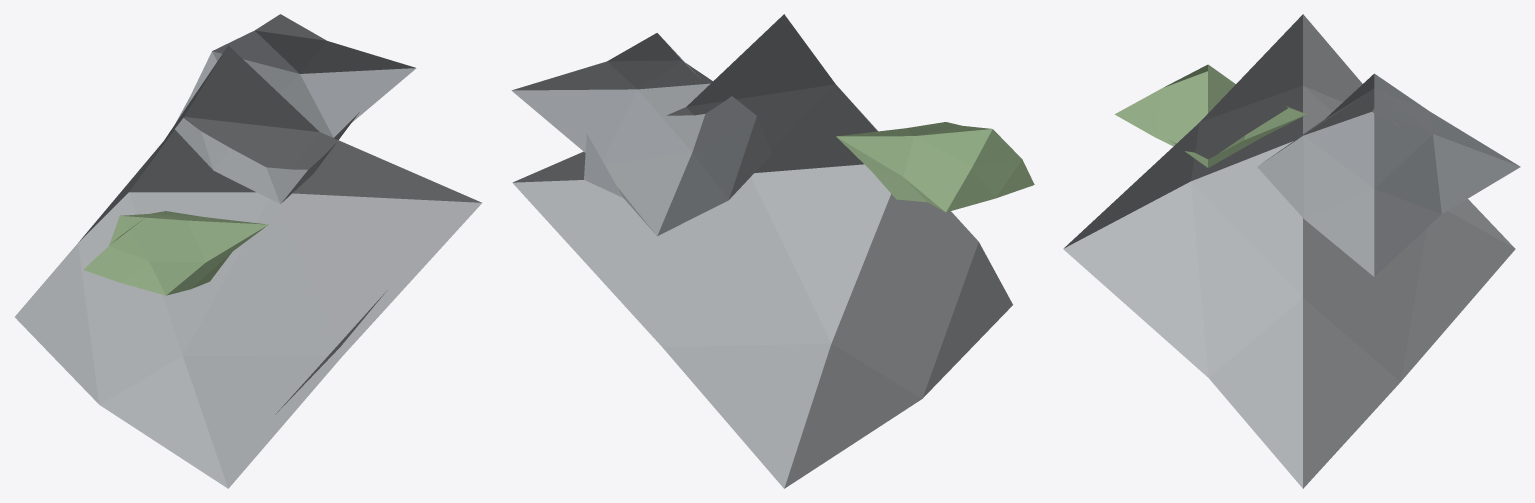
Rendered from boulder_v30.glb.
3 views of the same model, side by side, from view 1: azimuth 30°, elevation 25°; view 2: azimuth 150°, elevation 25°; view 3: azimuth 270°, elevation 25° (orthographic). The views are drawn at different scales.
Visible parts, largest first — view 1: lod0; view 2: lod0; view 3: lod0.
Part boxes in pixels (x1=…): lod0: x1=15, y1=14, x2=481, y2=488; lod0: x1=511, y1=14, x2=1034, y2=488; lod0: x1=1063, y1=14, x2=1520, y2=488.
Size of what is drawn, in the model's own units: 2.19 by 1.99 by 1.74.
